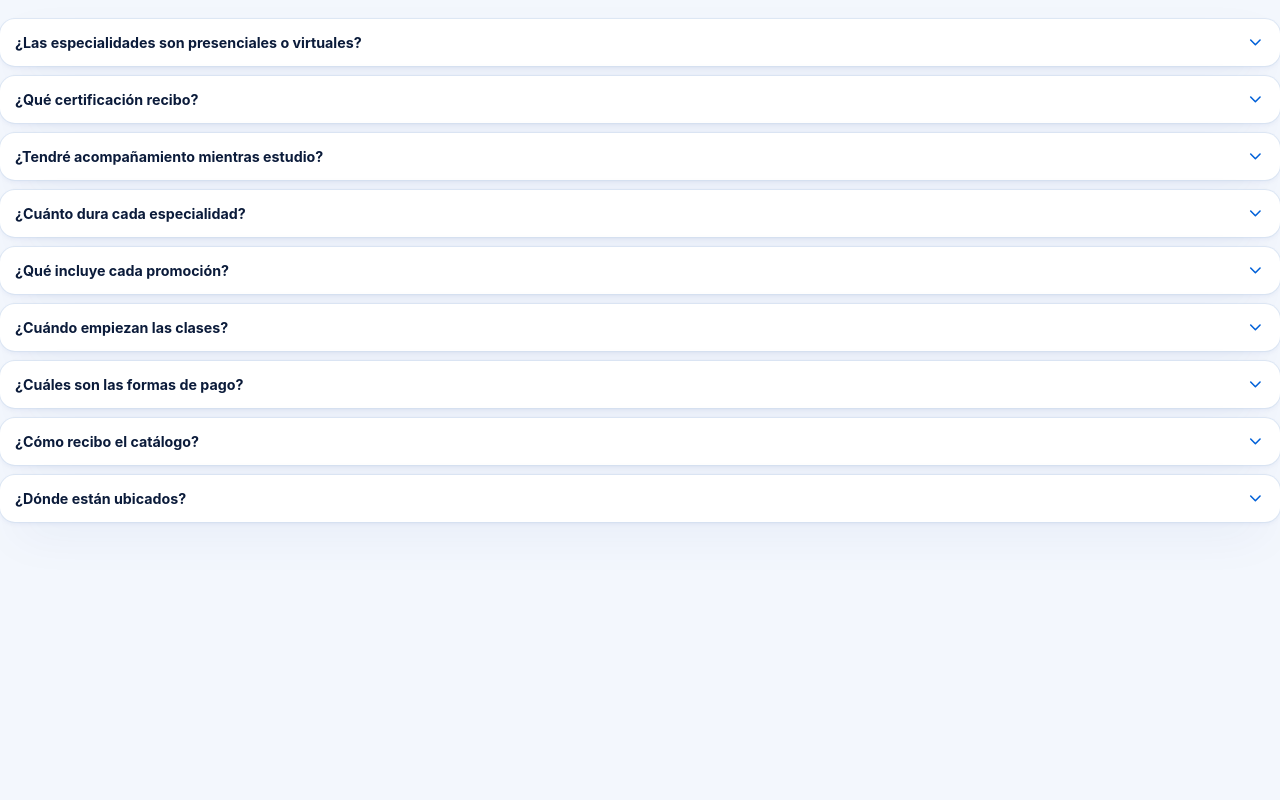
Test case: FAQ (A11) › usa <details>/<summary> nativos (la activación por teclado la cubre e2e en navegador real)
Click the heading "¿Las especialidades son presenciales o virtuales?" at point(188, 42), box [15, 33, 1265, 52]
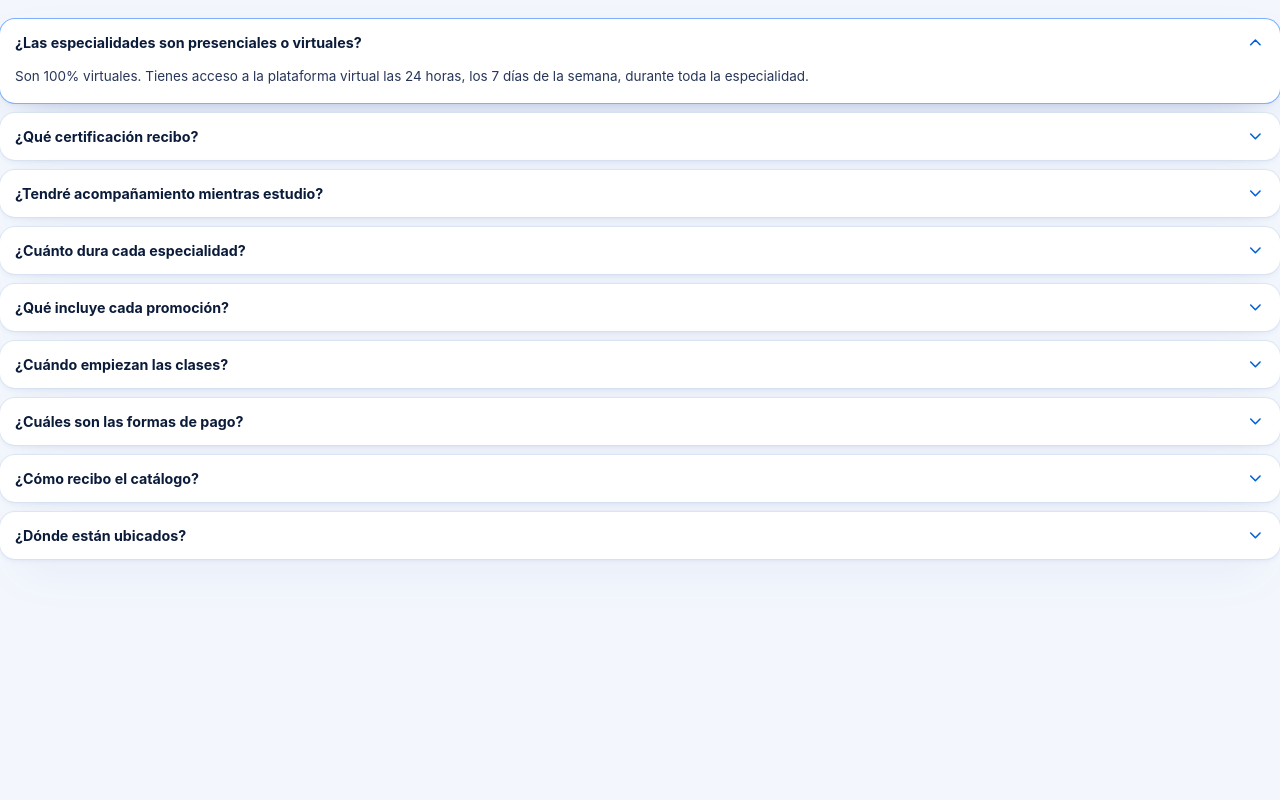
Check: the text "Son 100% virtuales. Tienes acceso a la plataforma virtual las 24 horas, los 7 días de la semana, durante toda la especia" is shown, box [15, 68, 809, 84]
